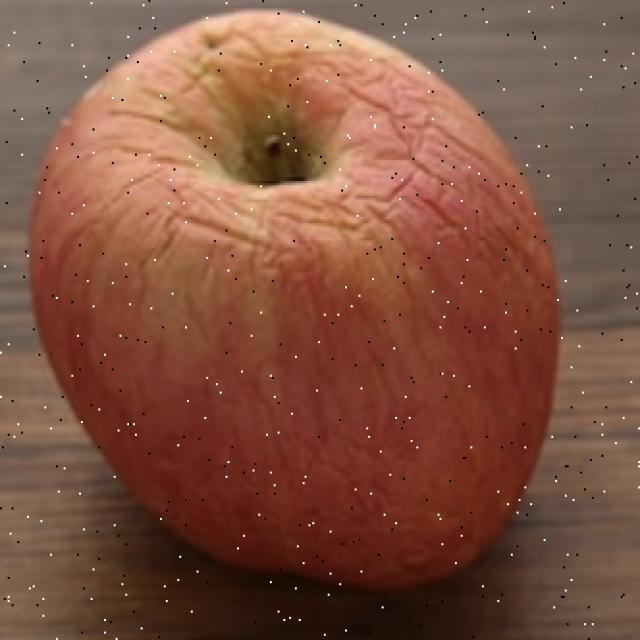Rotten: (35, 19, 535, 584)
